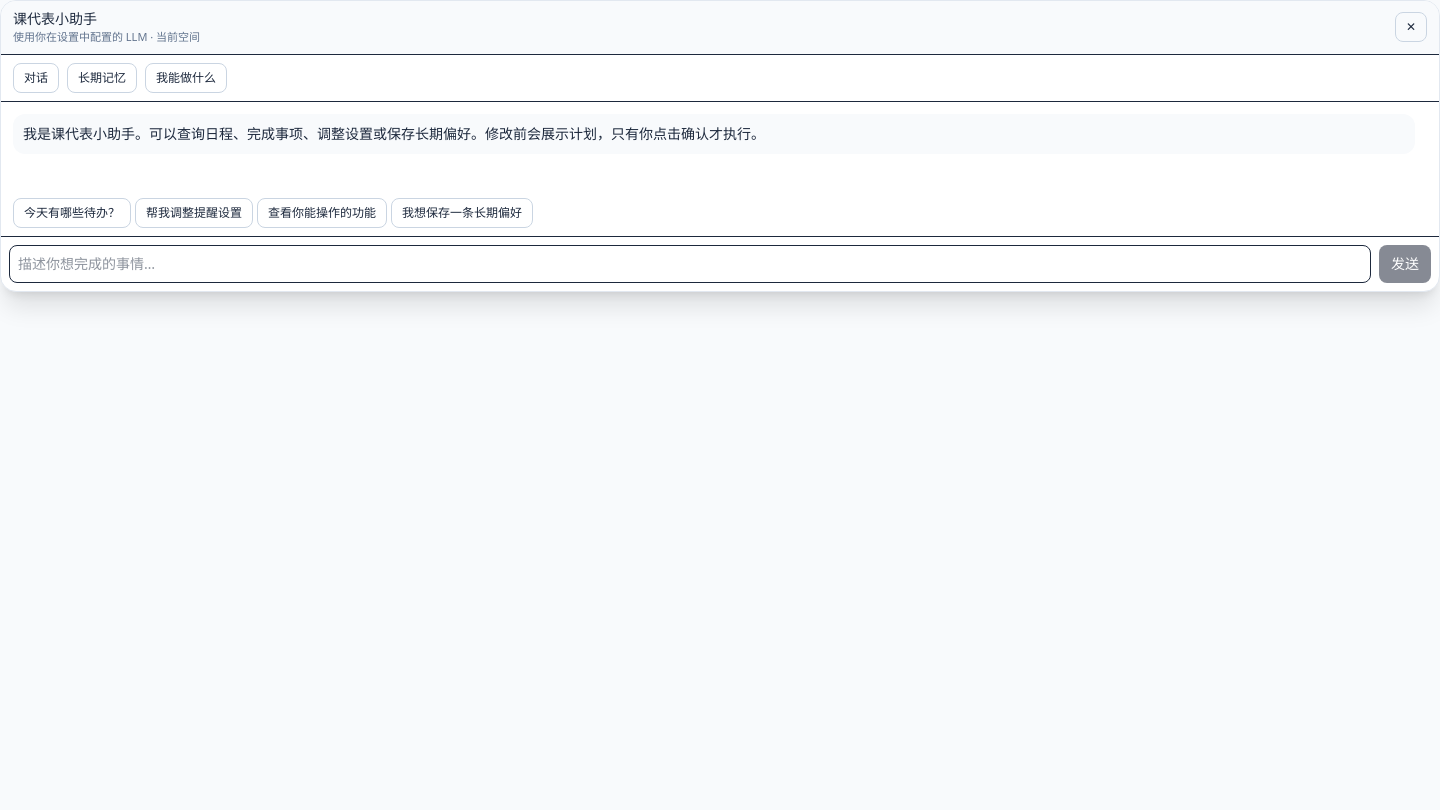
Scenario: 模型计划仅预览；用户明确点确认才执行，按回执显示成功
Type "标记作业完成" into the field named "给助手的消息" at (690, 264), box 9,244 -> 1371,282
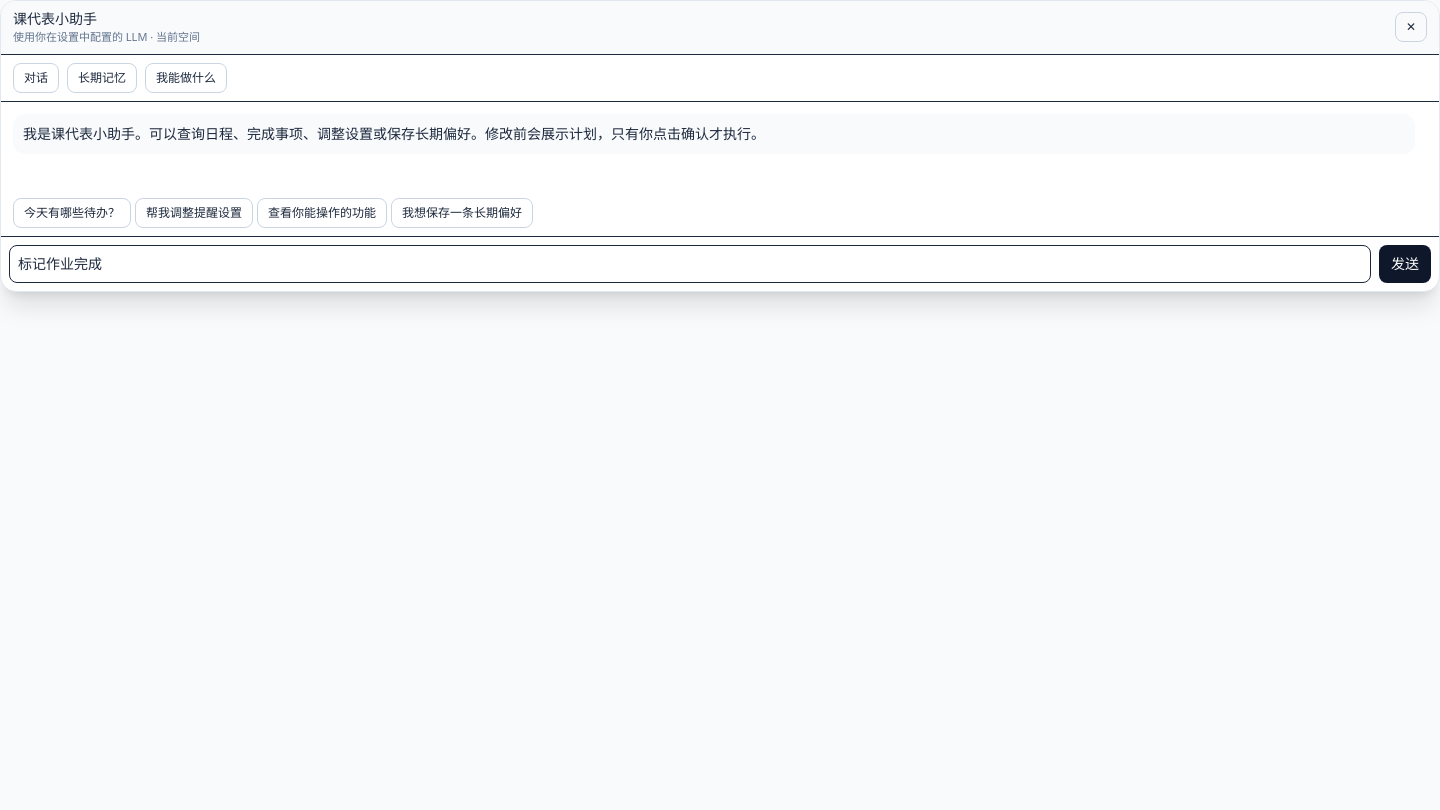
Click the button "发送" at (1405, 264), box 1379,244 -> 1431,282
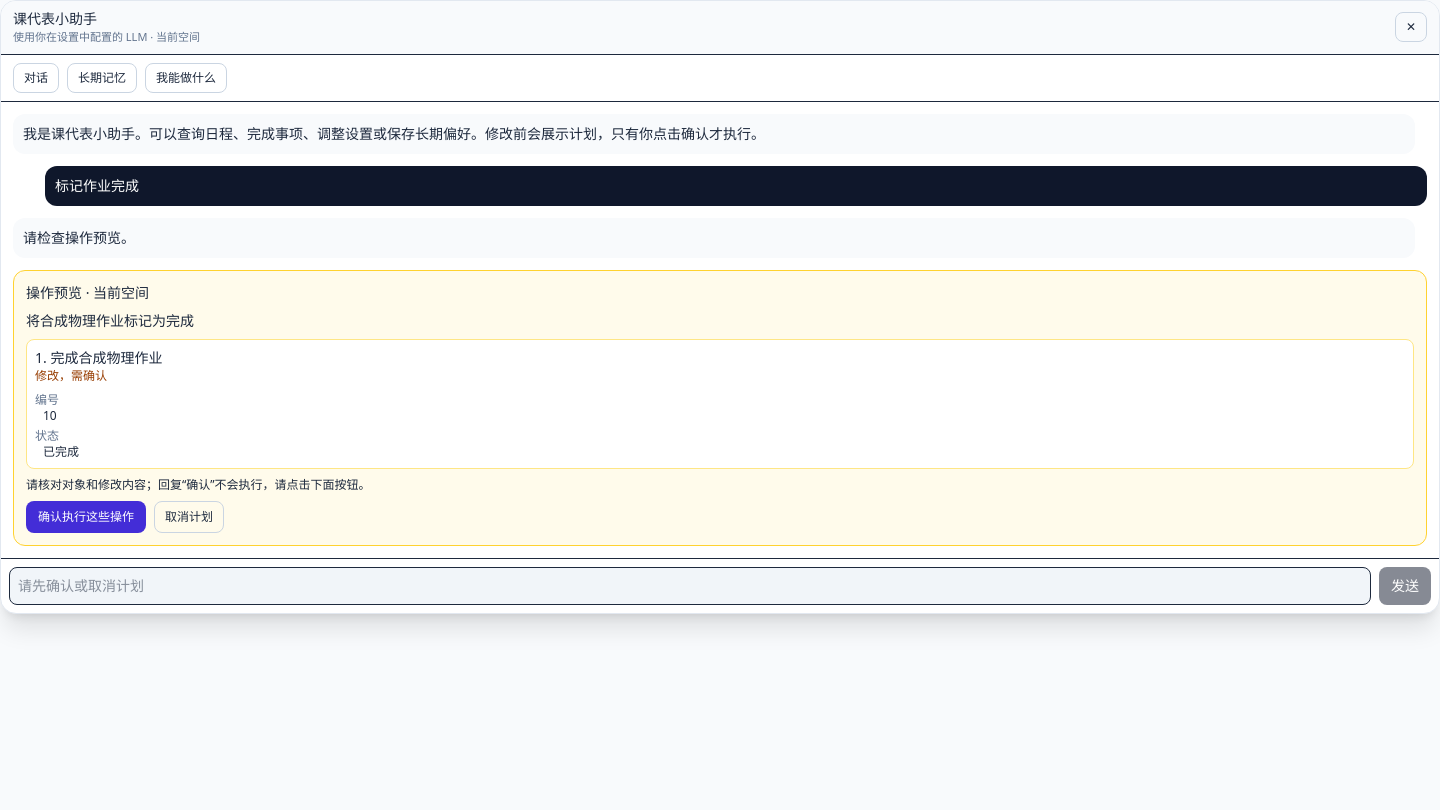
Expected: the element named "待确认操作" is shown, 13,270 -> 1427,546
Expected: the field named "给助手的消息" is disabled, 9,566 -> 1371,604
Click the button "确认执行这些操作" at (86, 516), box 26,500 -> 146,532
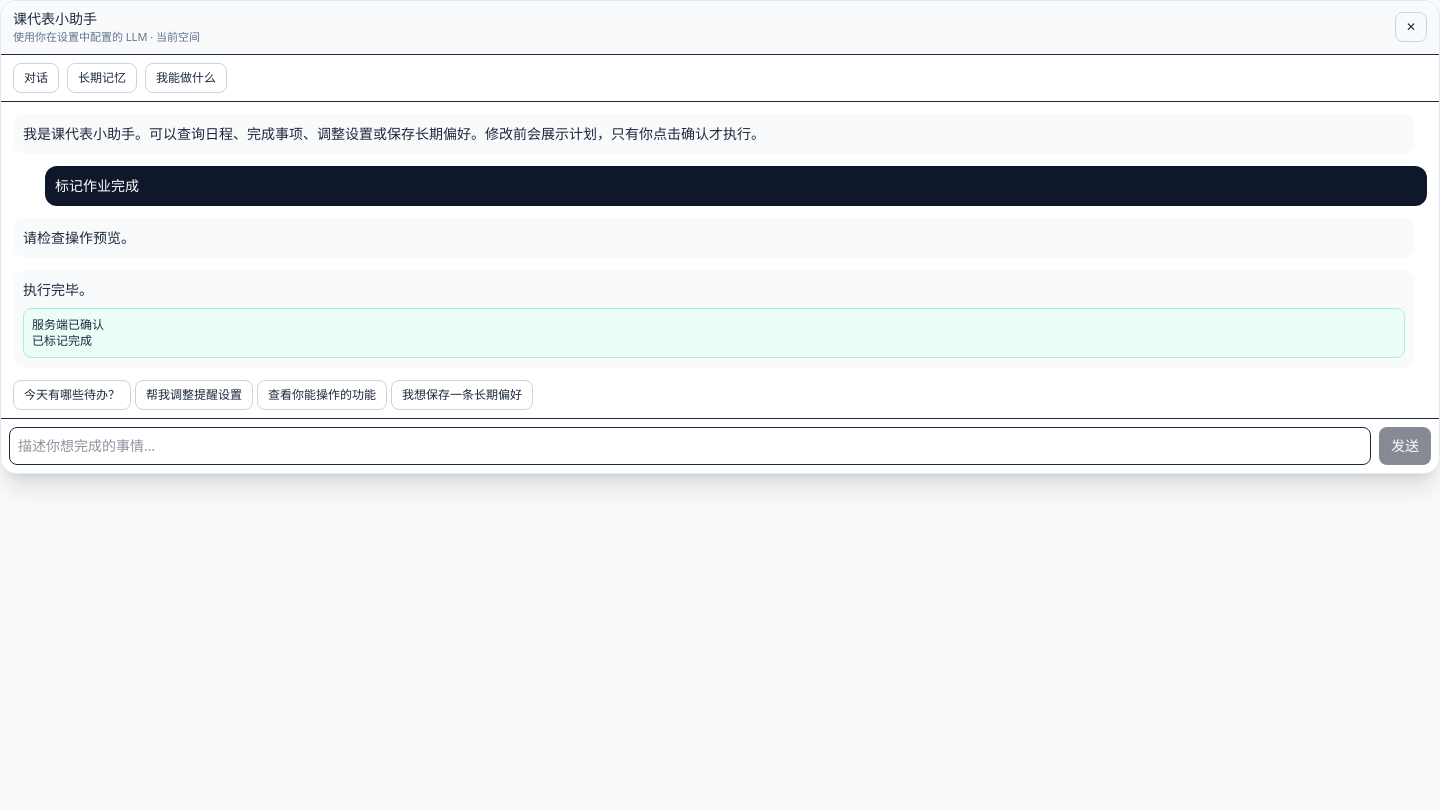
Expected: the text "已标记完成" is shown, 32,332 -> 92,348
Expected: the element "待确认操作" is gone
